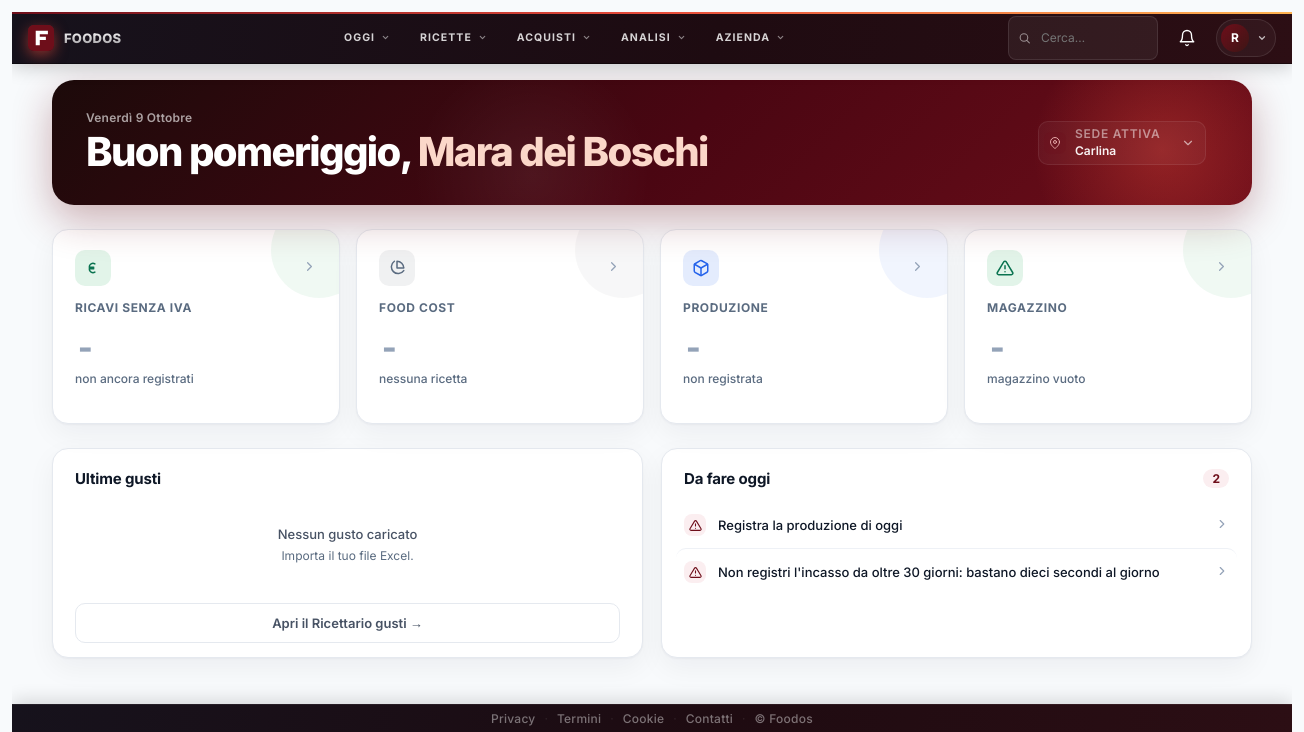
Il velo del menu del profilo › è un pulsante con un nome, non un rettangolo muto
The width and height of the screenshot is (1304, 732).
Click the button "R" at [1246, 38], box [1216,18,1276,56]
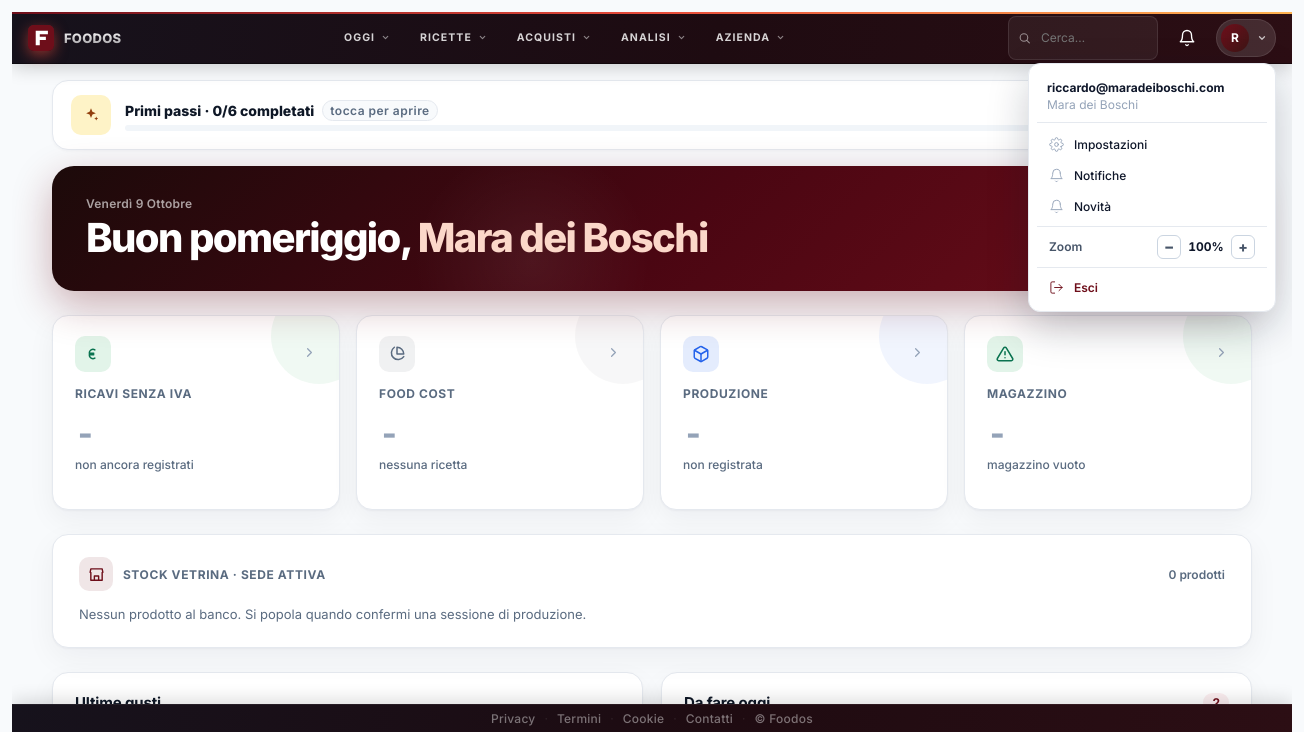
Check: the button named "Chiudi il menu" is shown
